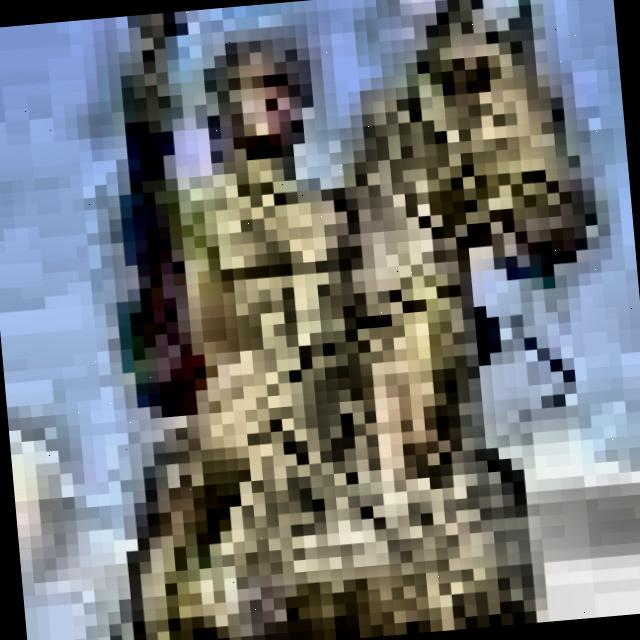alexander the great monument: (74, 0, 638, 640)
